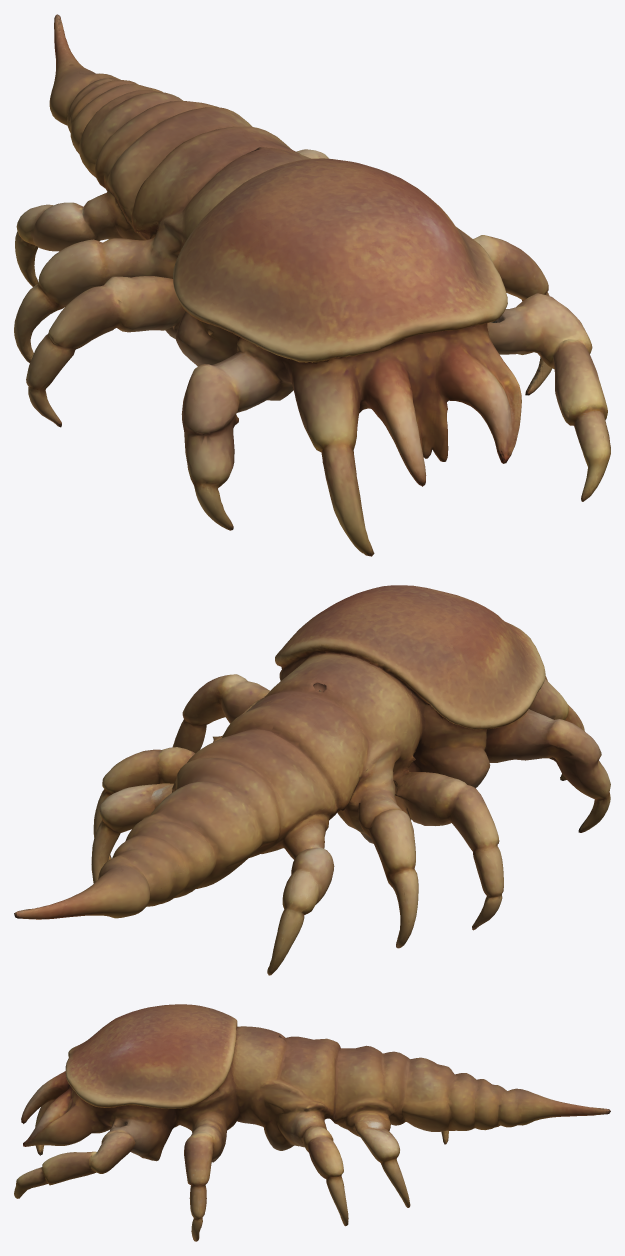
The picture shows the model from 3 angles, top to bottom: view 1: azimuth 30°, elevation 25°; view 2: azimuth 150°, elevation 25°; view 3: azimuth 270°, elevation 25°; orthographic projection. The views are drawn at different scales.
Visible parts, largest first — view 1: world; view 2: world; view 3: world.
Part boxes in pixels (box(x1,y1,x2,y2)): world: box(14, 14, 610, 556); world: box(14, 585, 610, 975); world: box(14, 1004, 610, 1241).
Size of the model in its own units: 0.00371 by 0.00212 by 0.007.
1 material, 1 textured.
